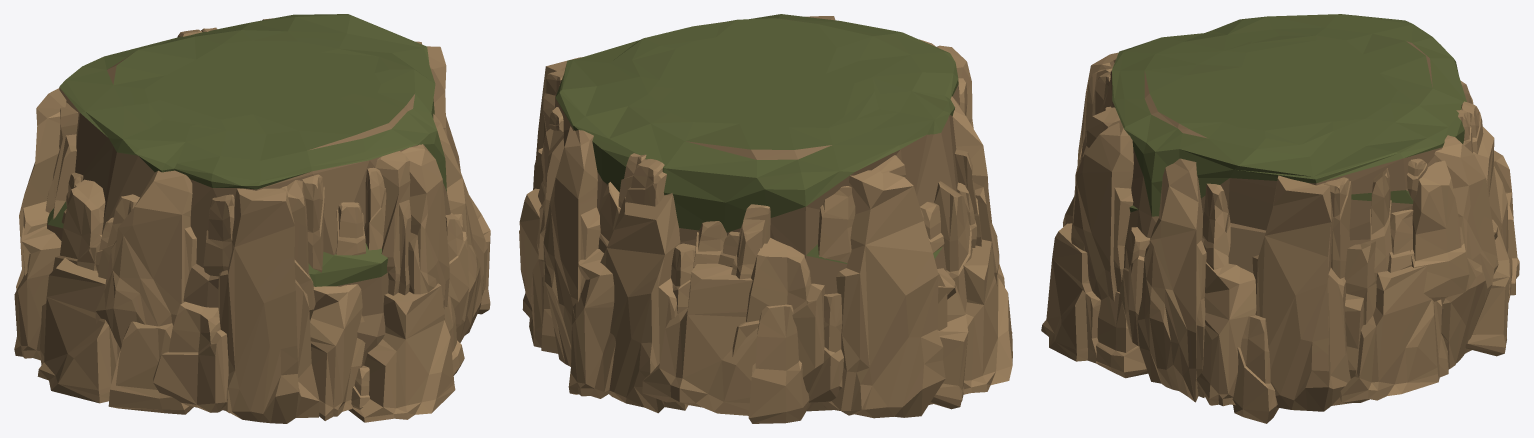
Rendered from SM_Env_Cliff_01.gltf.
3 views of the same model, side by side, from view 1: azimuth 30°, elevation 25°; view 2: azimuth 150°, elevation 25°; view 3: azimuth 270°, elevation 25° (orthographic). The views are drawn at different scales.
Visible parts, largest first — view 1: SM_Env_Cliff_01; view 2: SM_Env_Cliff_01; view 3: SM_Env_Cliff_01.
Part boxes in pixels (x1,y1,x2,y2): SM_Env_Cliff_01: [14, 14, 490, 423]; SM_Env_Cliff_01: [519, 14, 1012, 423]; SM_Env_Cliff_01: [1041, 14, 1519, 423].
Bounding box in the file's own units: 25.25 × 14.06 × 24.64.
1 material, 1 textured.
